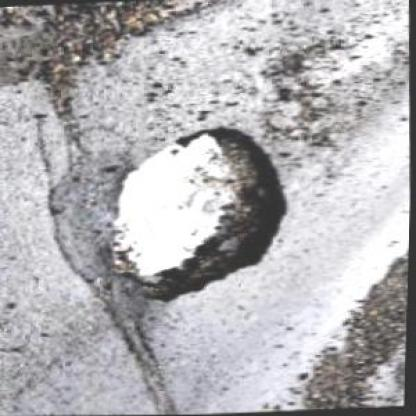pothole: (106, 119, 298, 308)
